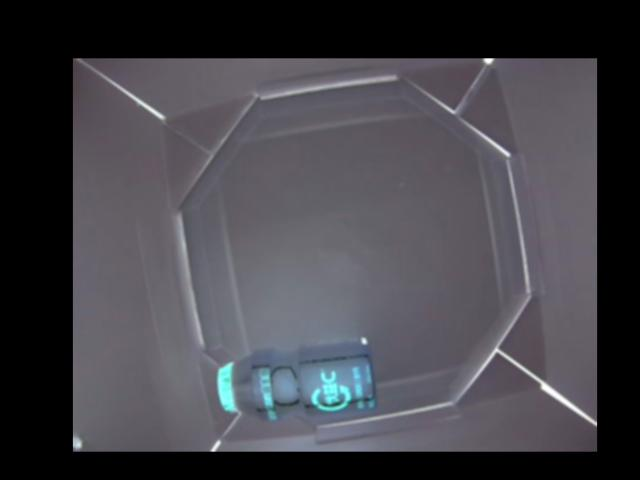Bottle: (212, 339, 380, 420)
